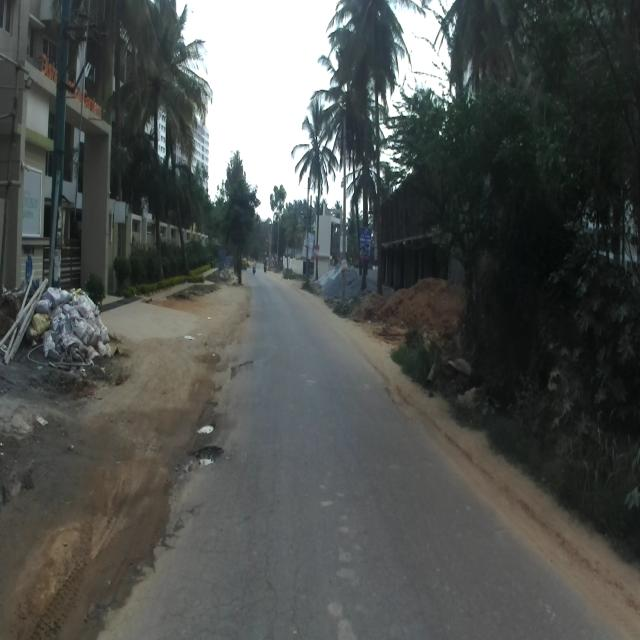electric pole ahead at: (32, 0, 101, 270)
stones ahead at: (27, 277, 116, 390)
